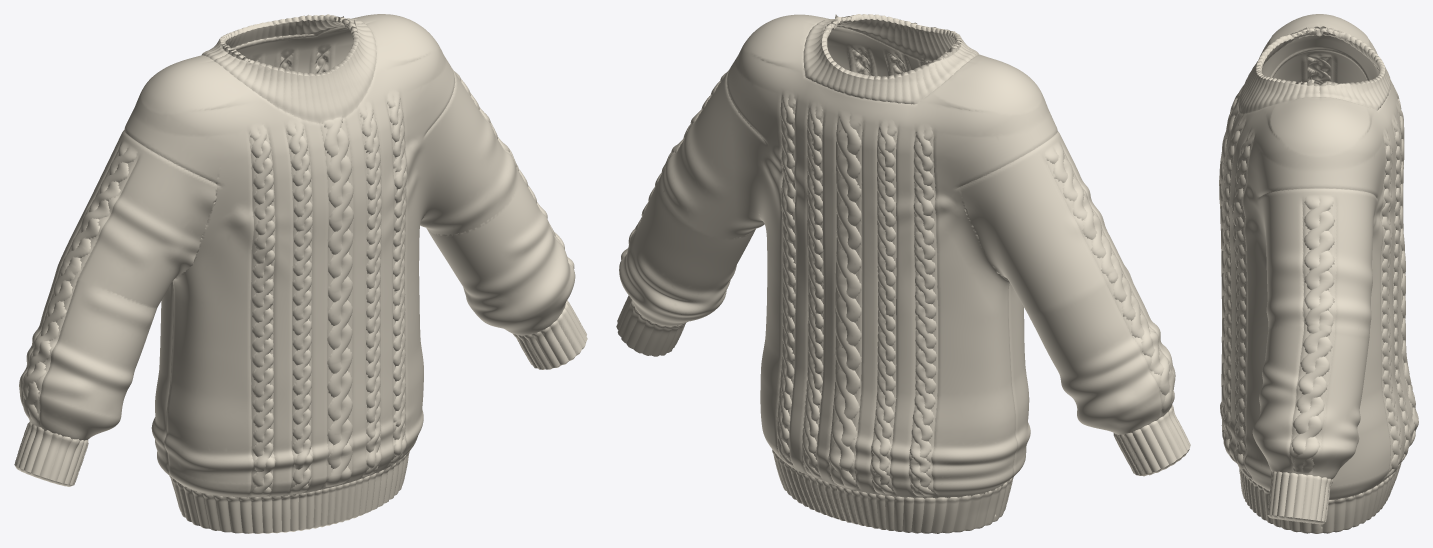
The model's file is 05_jersey_ochos.glb.
3 views of the same model, side by side, from view 1: azimuth 30°, elevation 25°; view 2: azimuth 150°, elevation 25°; view 3: azimuth 270°, elevation 25° (orthographic). The views are drawn at different scales.
Parts seen in each view (by area): view 1: body; view 2: body; view 3: body.
Boxes of the visible parts, x1=… form: body: x1=14, y1=14, x2=587, y2=533; body: x1=616, y1=14, x2=1190, y2=533; body: x1=1219, y1=14, x2=1418, y2=533.
Size of the model in its own units: 0.9903 by 0.7806 by 0.3238.
